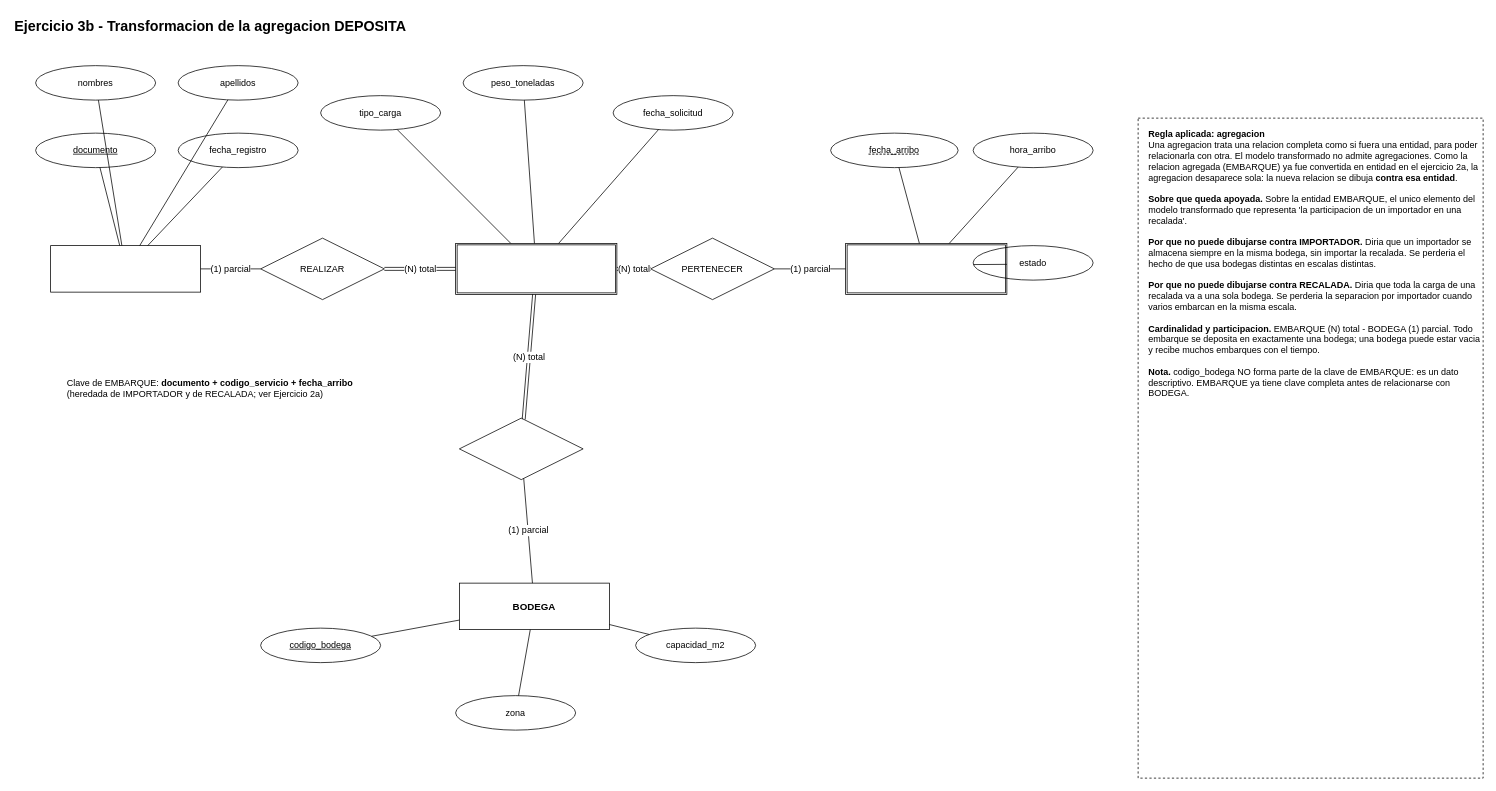
Some shapes in this 1496 by 791 pixel diagram are drawn without their labels. Each missing label, with the centre of its shape:
ALMACENAR: the point at 521,448
EMBARQUE: the point at 536,268
IMPORTADOR: the point at 125,268
RECALADA: the point at 926,268
